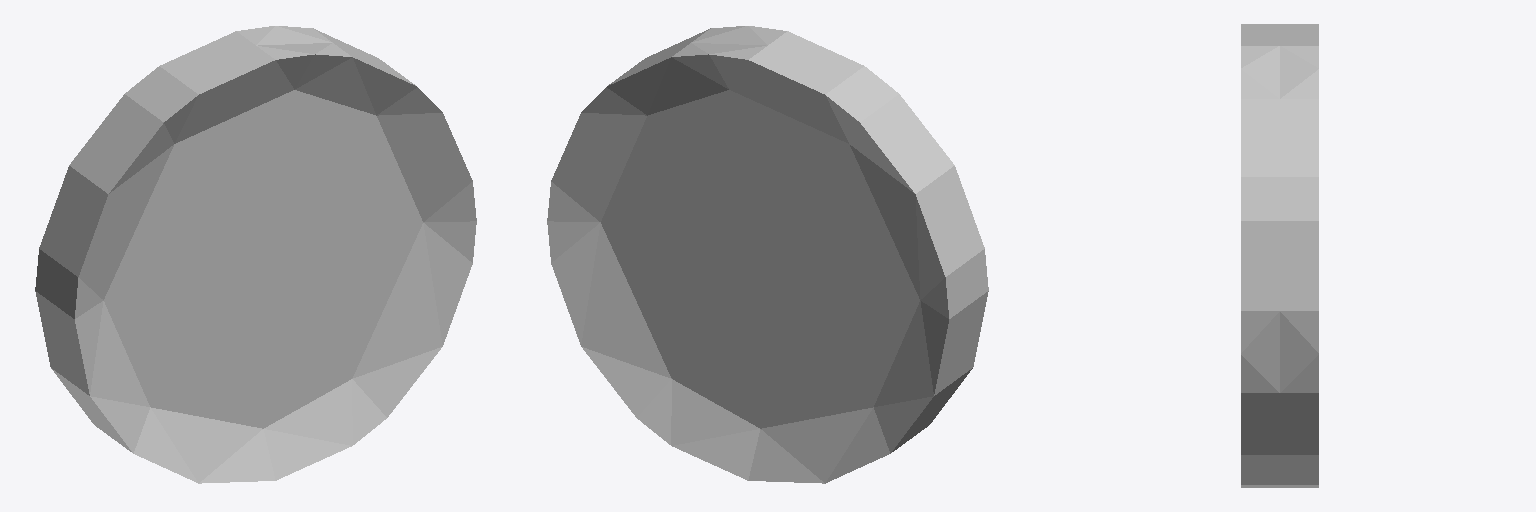
File: checkpoint.obj
The picture shows the model from 3 angles: view 1: azimuth 30°, elevation 25°; view 2: azimuth 150°, elevation 25°; view 3: azimuth 270°, elevation 25°; orthographic projection.
Parts seen in each view (by area): view 1: Cylinder; view 2: Cylinder; view 3: Cylinder.
Boxes of the visible parts, <box> form: Cylinder: <box>35,26,476,483</box>; Cylinder: <box>547,26,988,483</box>; Cylinder: <box>1241,24,1318,487</box>.
Size of the model in its own units: 2 by 2 by 0.3394.